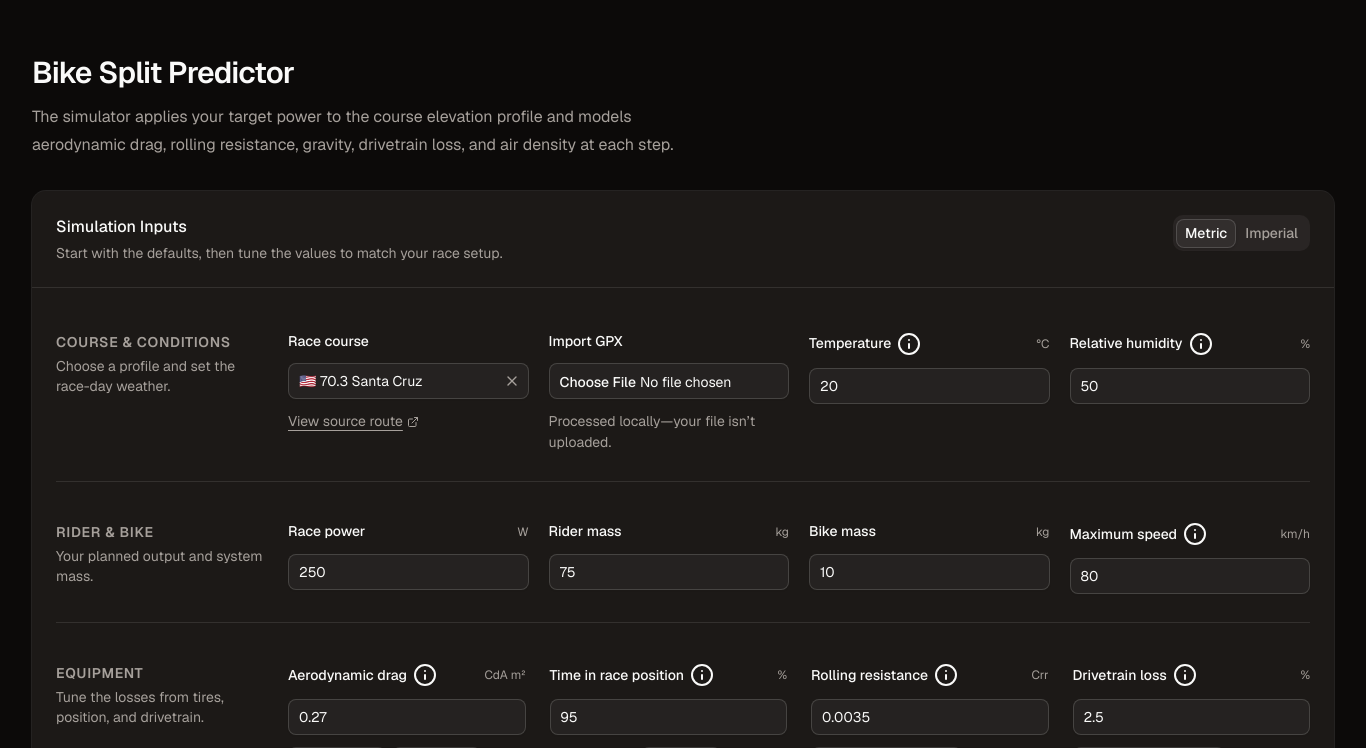
Test: BikeSimulator custom courses › clears the selected course and remembers the empty selection
Click the button named "Clear selection": coordinates (512, 381) [500,369,524,393]
(page scrolled)
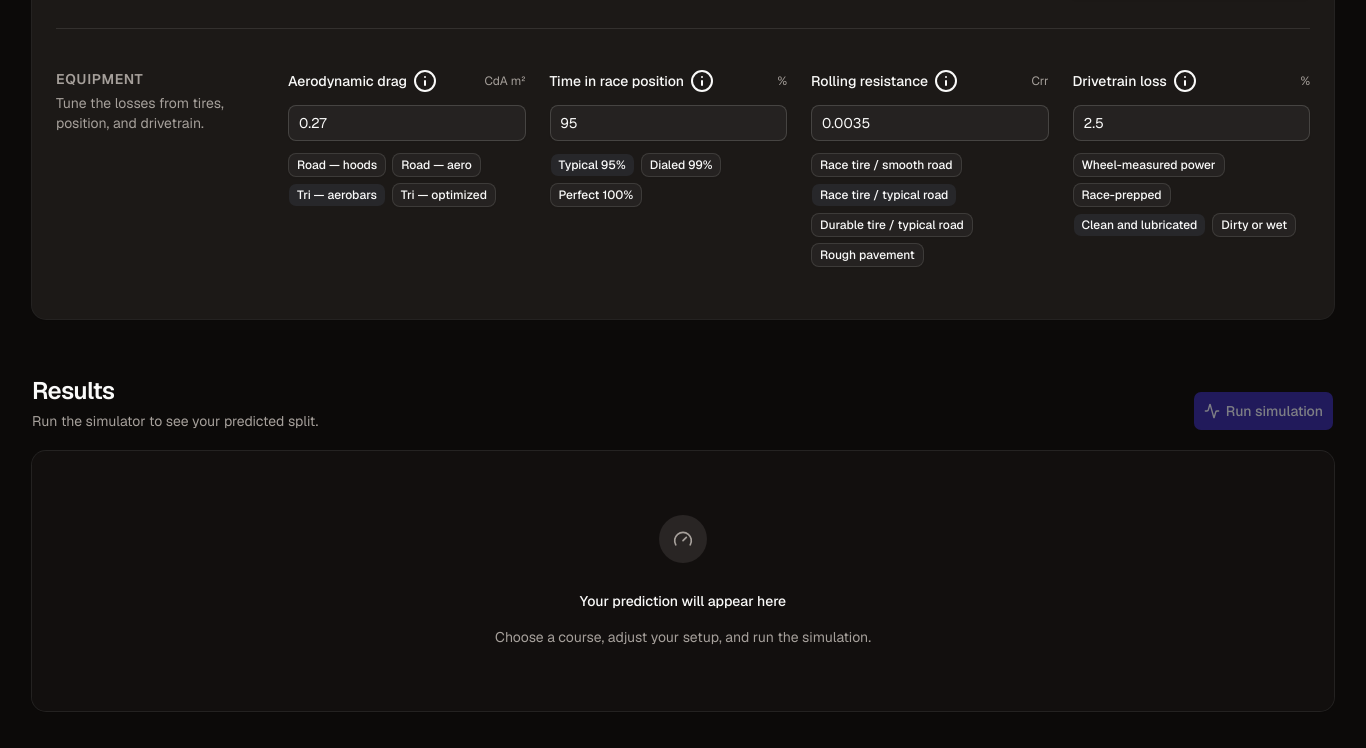
Check: the button "Run simulation" is disabled, box [1193,391,1334,431]
